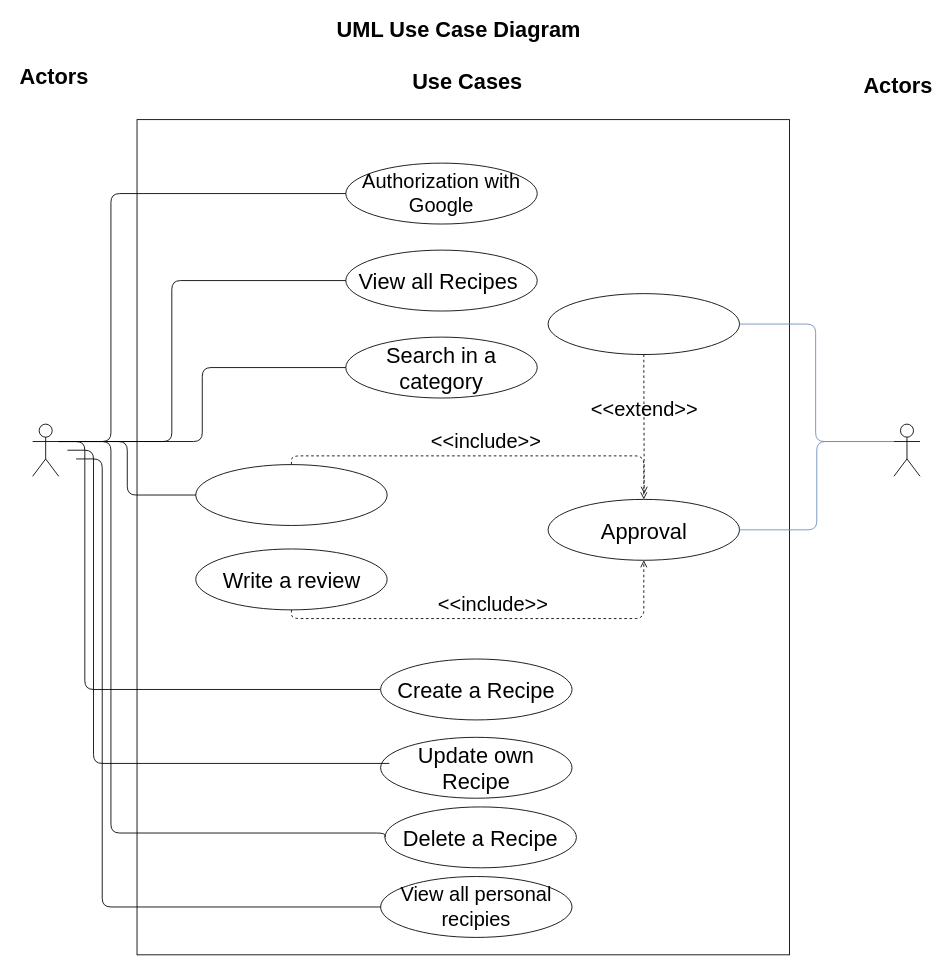
Some shapes in this 952 by 970 pixel diagram are drawn without their labels. The shapes that lost their labels are listed below. From the top down, each one's box as (x1, y1, x2, y2) in pixels, then its label:
(547, 293, 740, 355): View requests
(32, 423, 59, 476): User
(893, 423, 920, 476): Manager
(195, 464, 387, 525): Update any Recipe
